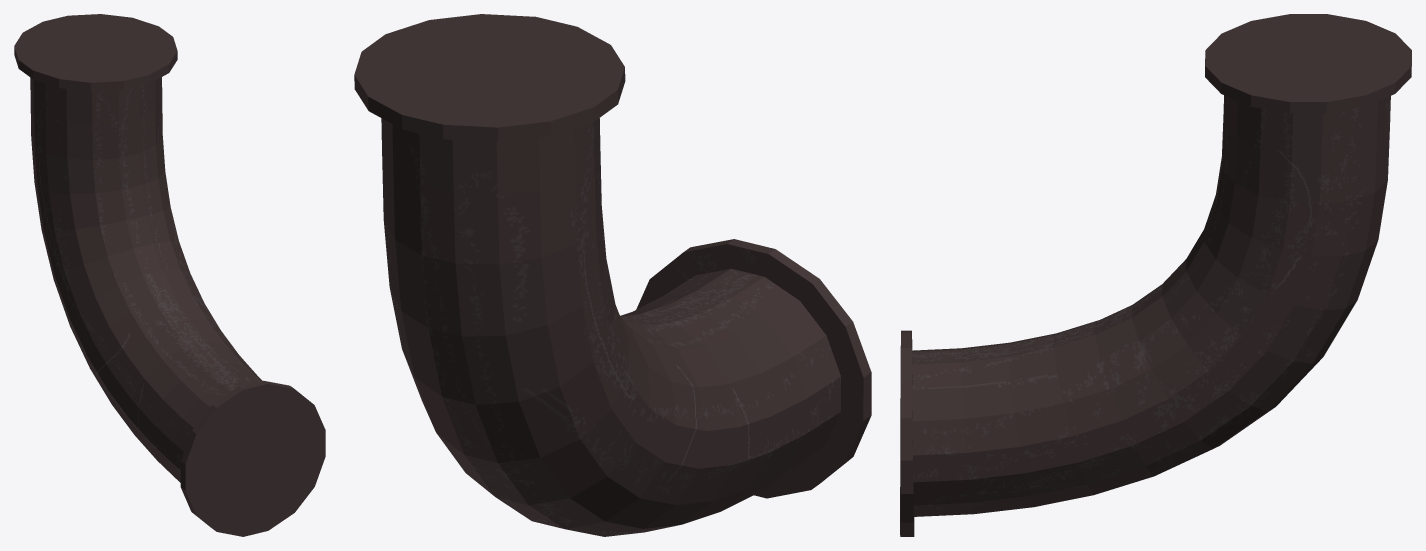
The model's file is pipe_curve.obj.
3 renders of one model, left to right at view 1: azimuth 30°, elevation 25°; view 2: azimuth 150°, elevation 25°; view 3: azimuth 270°, elevation 25°, orthographic. The views are drawn at different scales.
Parts seen in each view (by area): view 1: Cube.001; view 2: Cube.001; view 3: Cube.001.
Boxes of the visible parts, bbox=[...] form: Cube.001: bbox=[14, 14, 325, 536]; Cube.001: bbox=[354, 14, 871, 536]; Cube.001: bbox=[900, 14, 1411, 536].
Bounding box in the file's own units: 1.2 × 3.01 × 2.97.
Materials: 1 (1 with a texture image).
